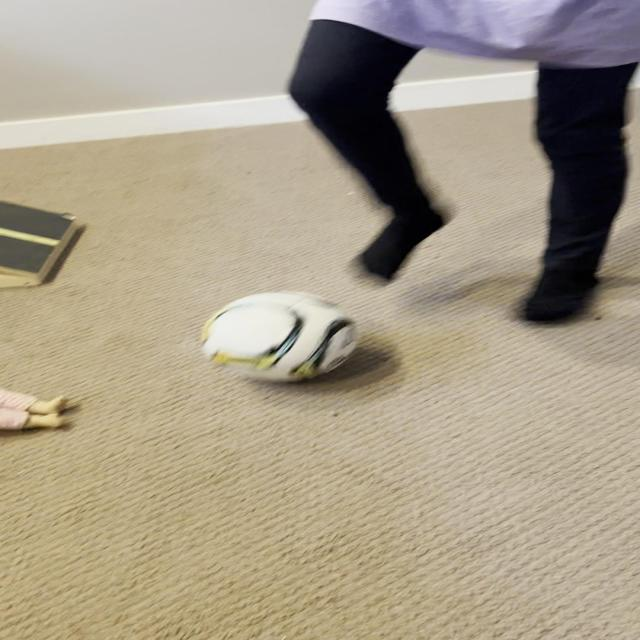Soccer Ball: (202, 291, 360, 383)
